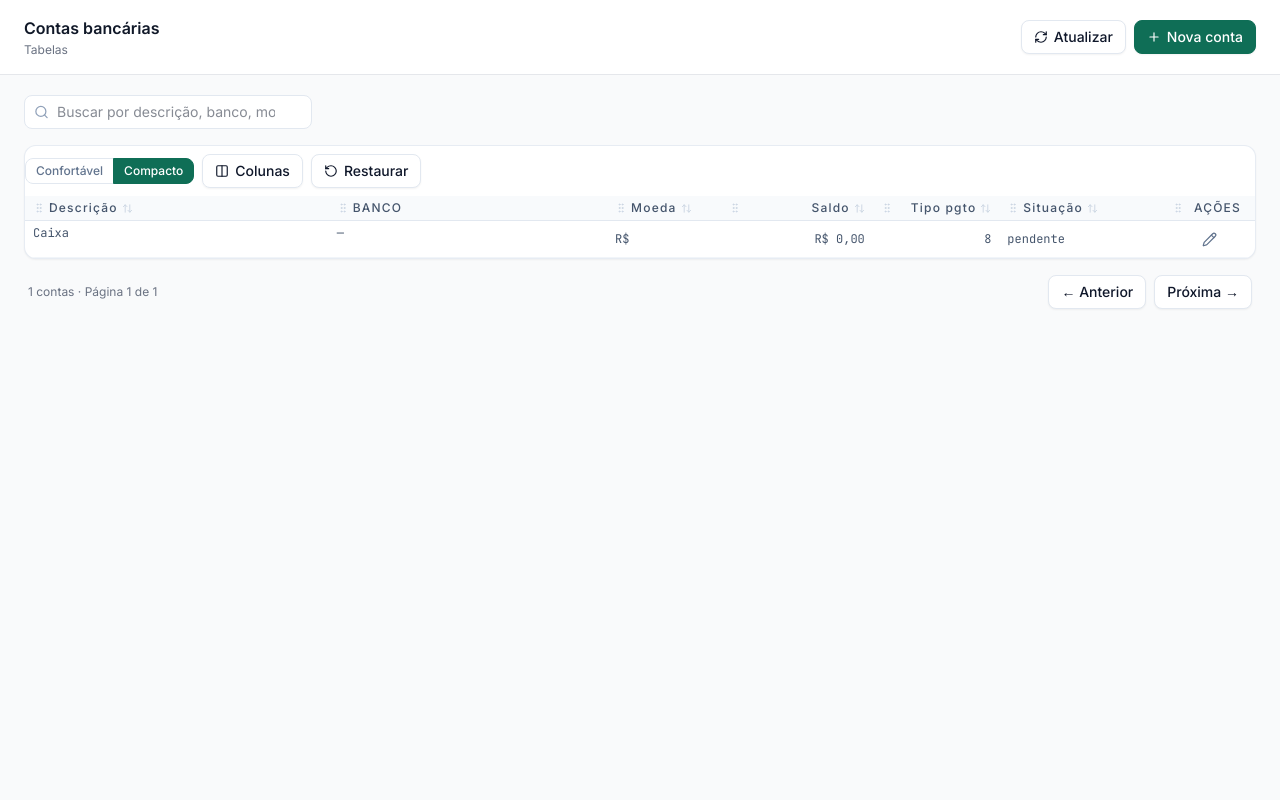
Test: FinancialAccountsPage › abre o modal ao clicar em "Nova conta"
The image size is (1280, 800).
Expected: the text "Caixa" is shown, [25,220,329,258]
Click the button "Nova conta". click: x=1195, y=37
box: [1134,20,1256,54]
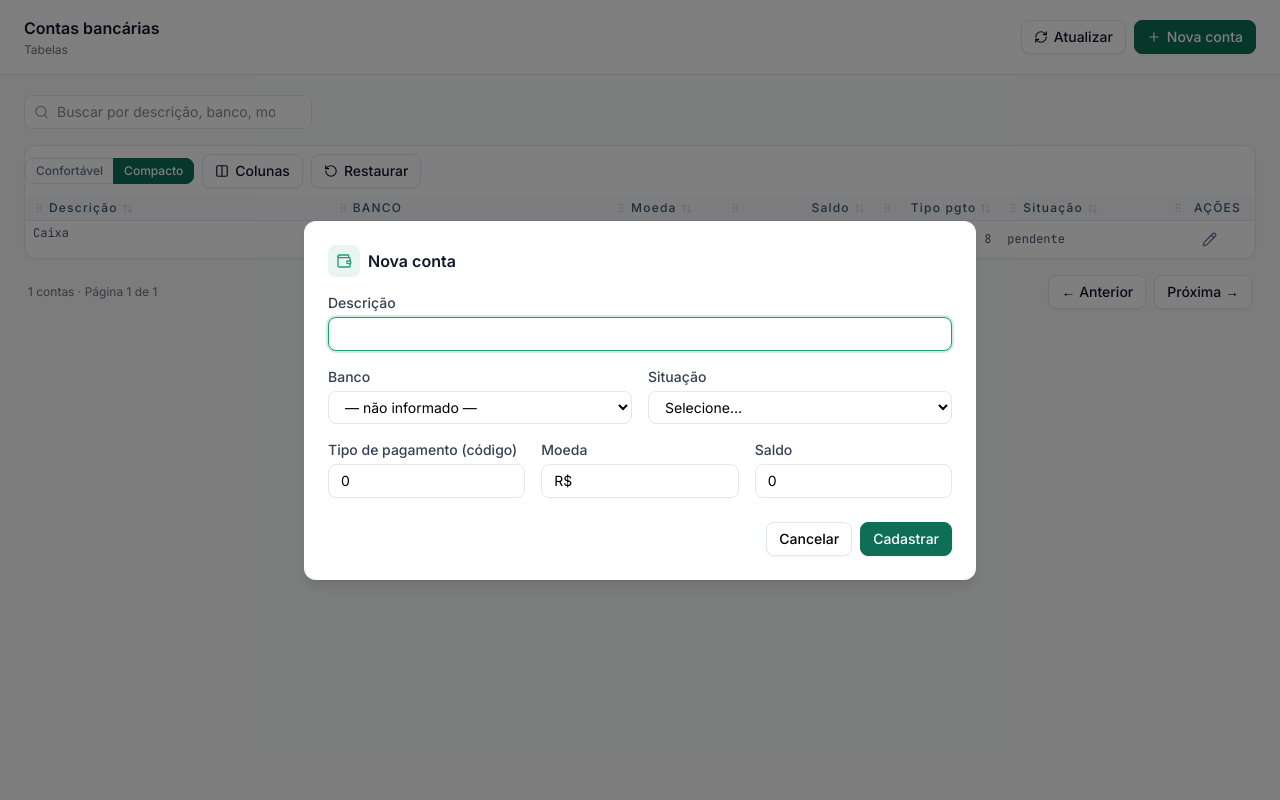
Now the button "Cadastrar" is shown, box [860,522,952,556]
